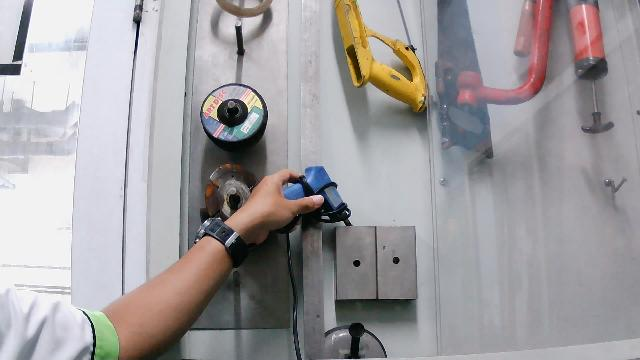solder_electrical: (259, 159, 360, 238)
